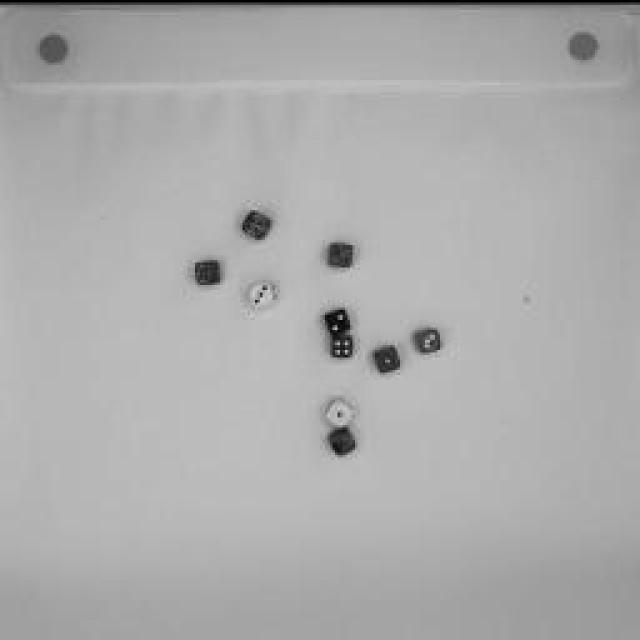dice_1: (370, 338, 408, 372), (322, 394, 358, 426), (325, 423, 360, 455)
dice_2: (412, 318, 448, 352), (318, 301, 352, 334), (324, 235, 356, 267)
dice_3: (246, 272, 282, 312)
dice_4: (237, 205, 275, 240), (328, 330, 358, 355)
dice_6: (189, 250, 226, 285)
